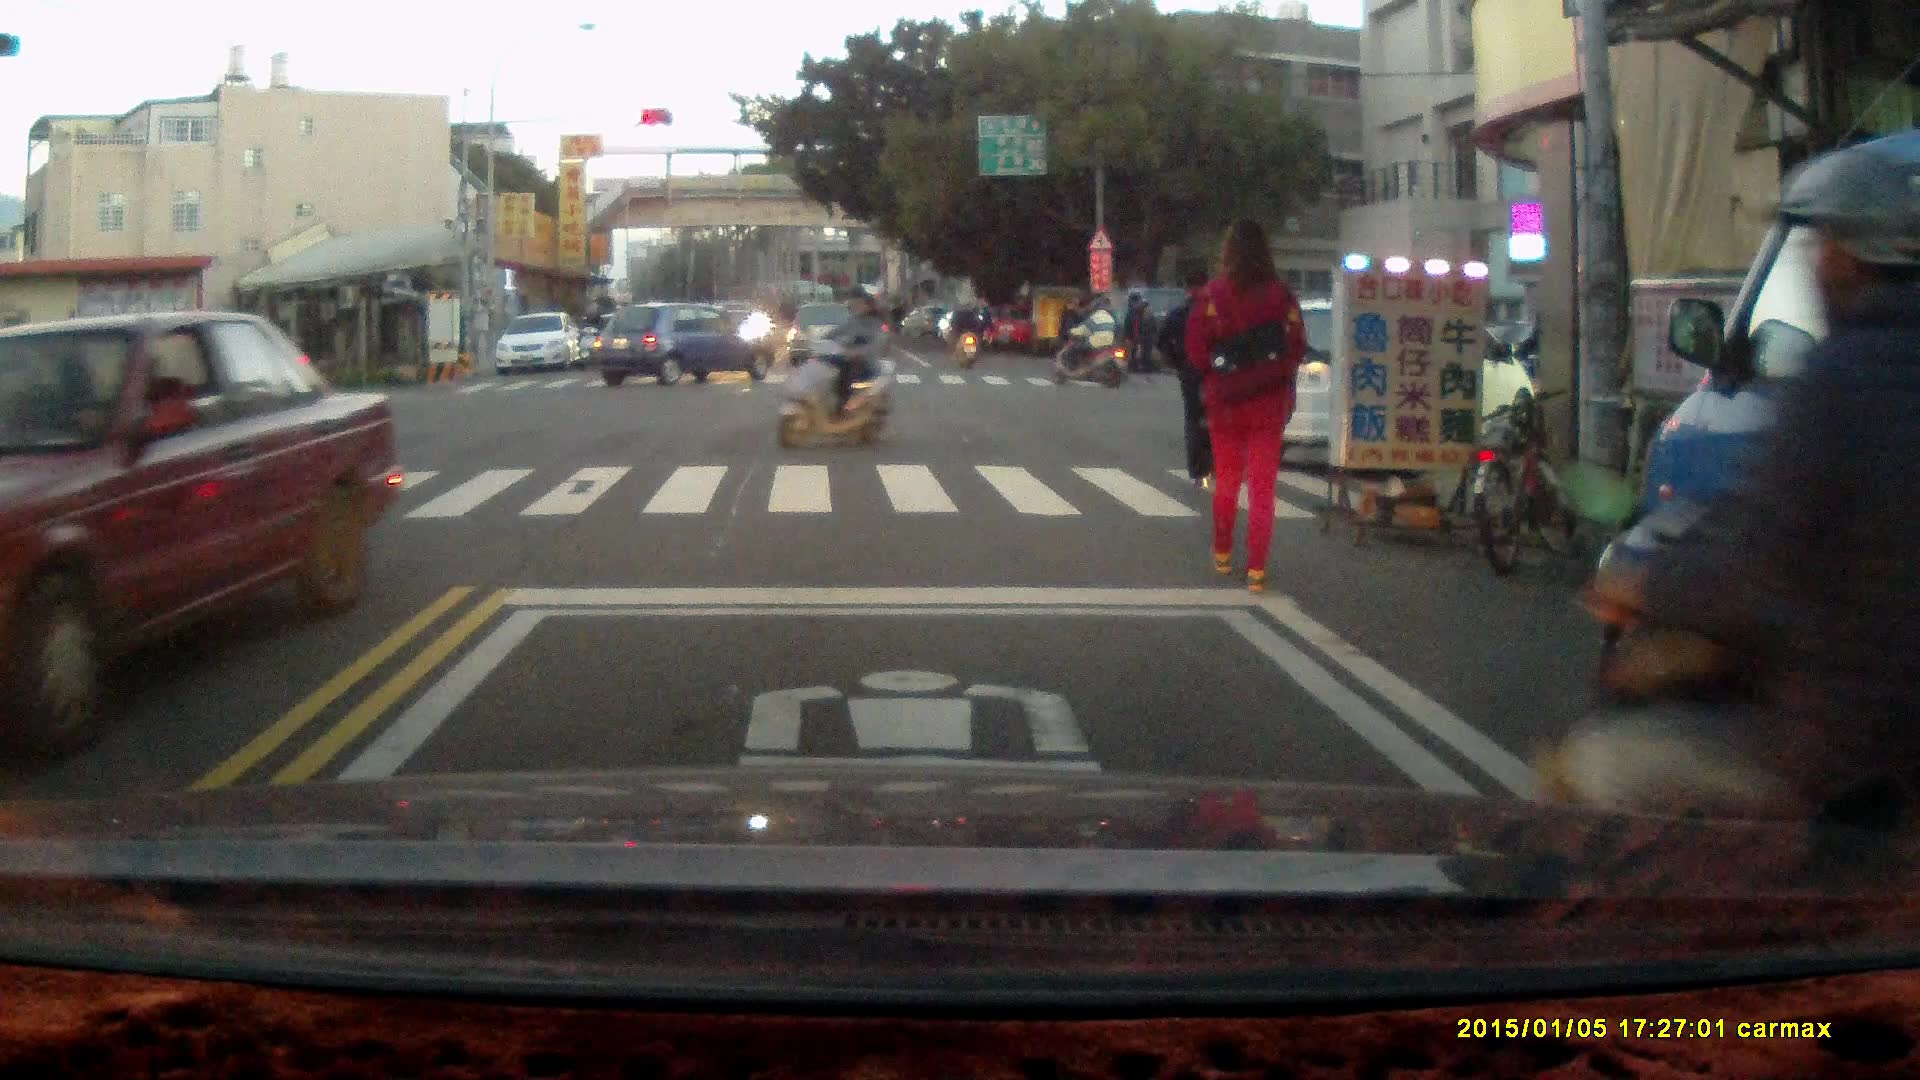pedestrian: (1179, 212, 1310, 593), (1158, 260, 1245, 490), (1127, 298, 1157, 378)
rider: (1541, 153, 1920, 877), (775, 284, 906, 452), (1049, 296, 1129, 388), (944, 292, 985, 371), (575, 302, 607, 369)
vehicle: (1598, 132, 1920, 877), (1, 312, 397, 751), (1233, 296, 1533, 459), (597, 304, 779, 390), (787, 301, 869, 374), (498, 313, 586, 377)
